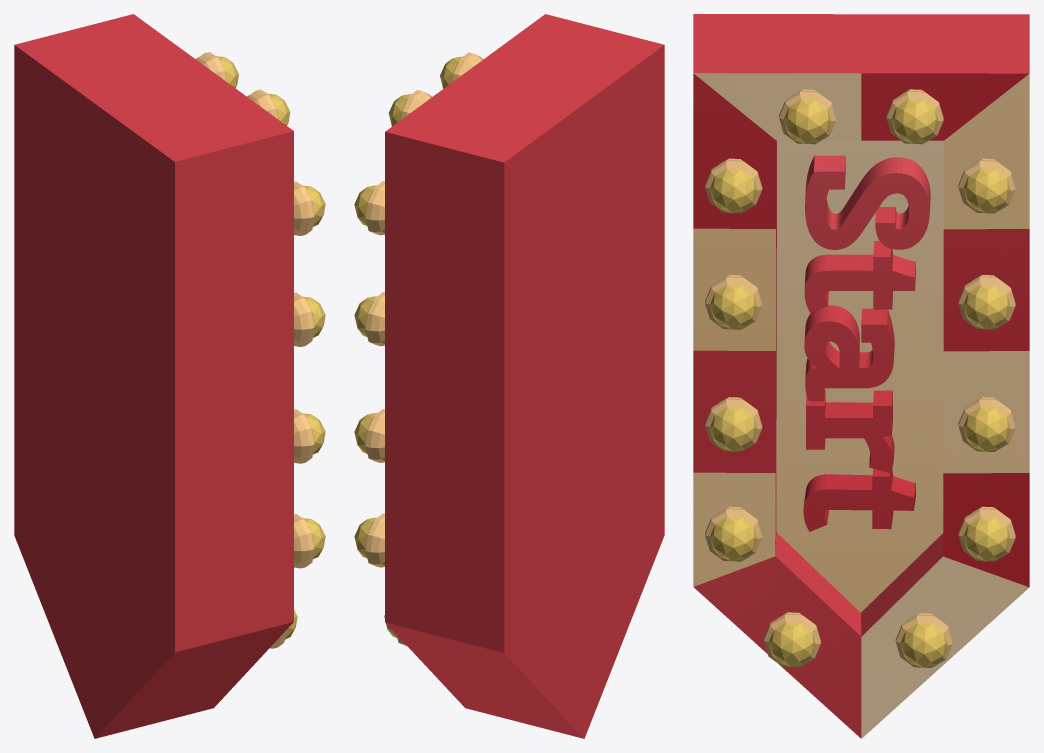
The model's file is Start_sign.fbx.
3 views of the same model, side by side, from view 1: azimuth 30°, elevation 25°; view 2: azimuth 150°, elevation 25°; view 3: azimuth 270°, elevation 25° (orthographic). The views are drawn at different scales.
Visible parts, largest first — view 1: Lightbulb.014; view 2: Lightbulb.014; view 3: Lightbulb.014.
Boxes of the visible parts, left/top/right/bottom form: Lightbulb.014: left=14, top=14, right=325, bottom=738; Lightbulb.014: left=354, top=14, right=664, bottom=738; Lightbulb.014: left=693, top=14, right=1029, bottom=738.
Bounding box in the file's own units: 15.74 × 57.28 × 26.15.
